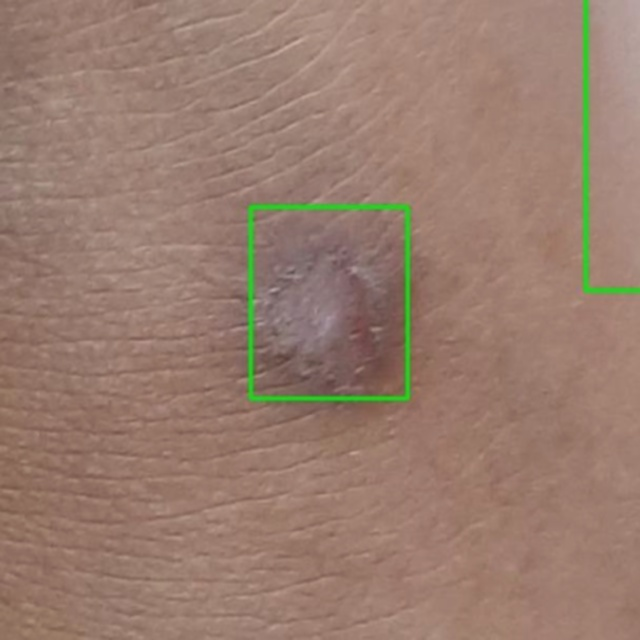Contact Dermatitis: (250, 207, 407, 398), (585, 0, 639, 290)
